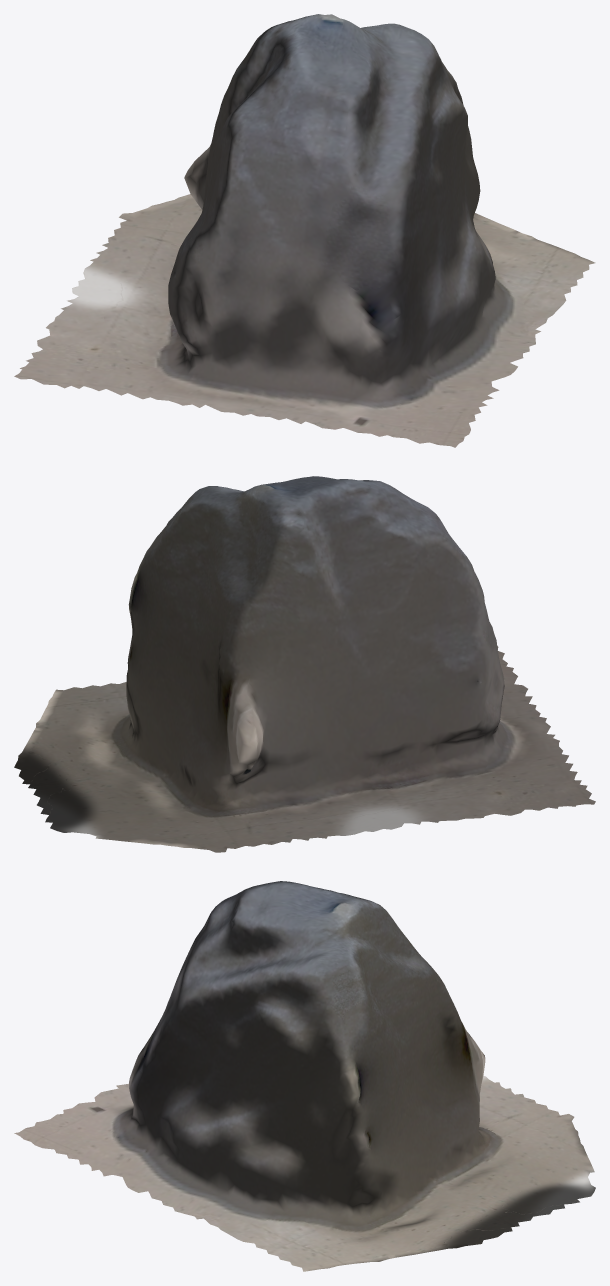
File: blue_rock.dae
The picture shows the model from 3 angles, top to bottom: view 1: azimuth 30°, elevation 25°; view 2: azimuth 150°, elevation 25°; view 3: azimuth 270°, elevation 25°; orthographic projection. The views are drawn at different scales.
Parts seen in each view (by area): view 1: textured_003; view 2: textured_003; view 3: textured_003.
Part boxes in pixels (x1,y1,x2,y2): textured_003: (14, 14, 595, 447); textured_003: (14, 476, 595, 852); textured_003: (14, 881, 595, 1271).
Size of the model in its own units: 3.03 by 2.97 by 1.47.
Materials: 5 (5 with a texture image).
